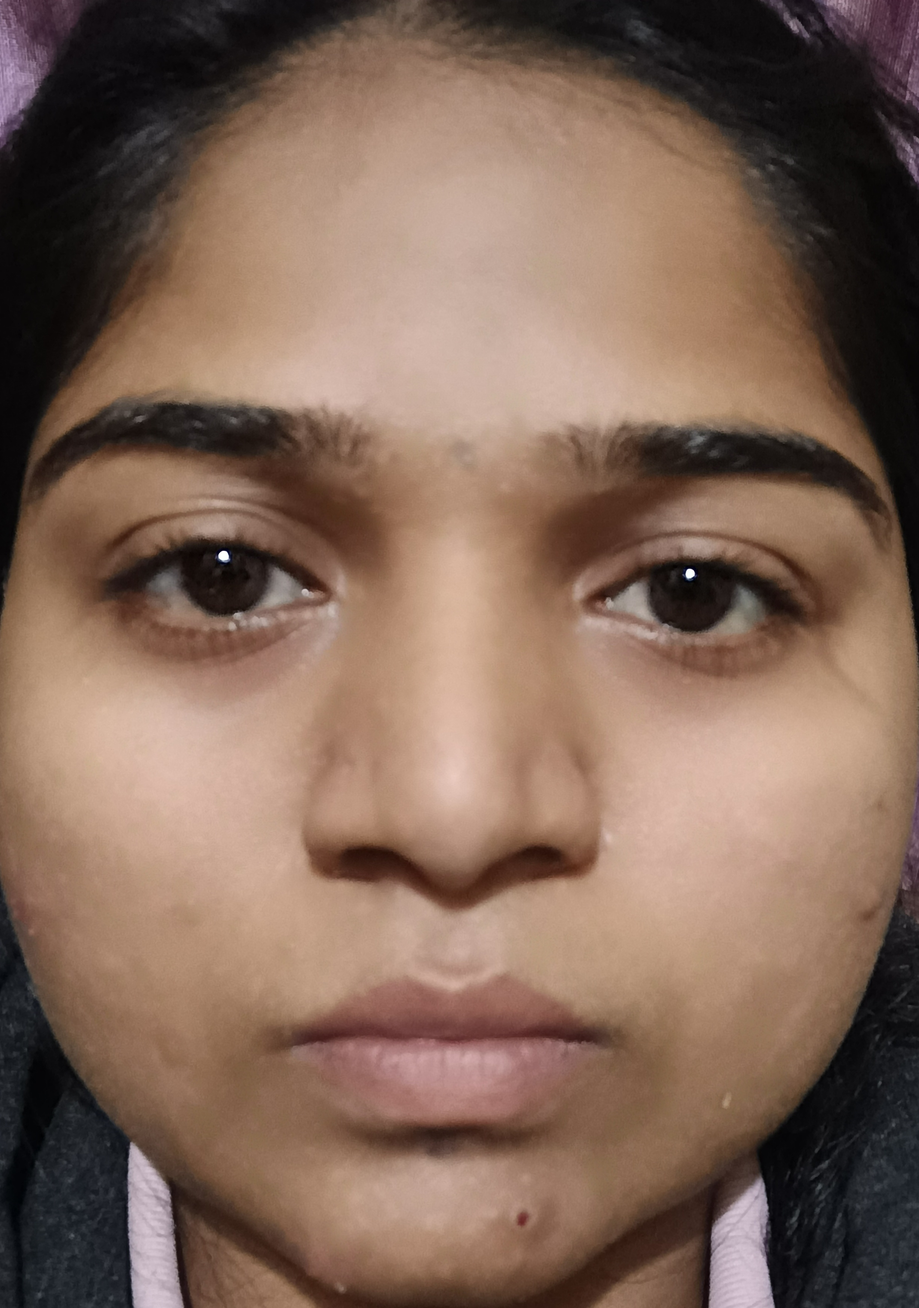closed_comedone: (314, 1246, 379, 1308)
papule: (825, 874, 908, 937)
